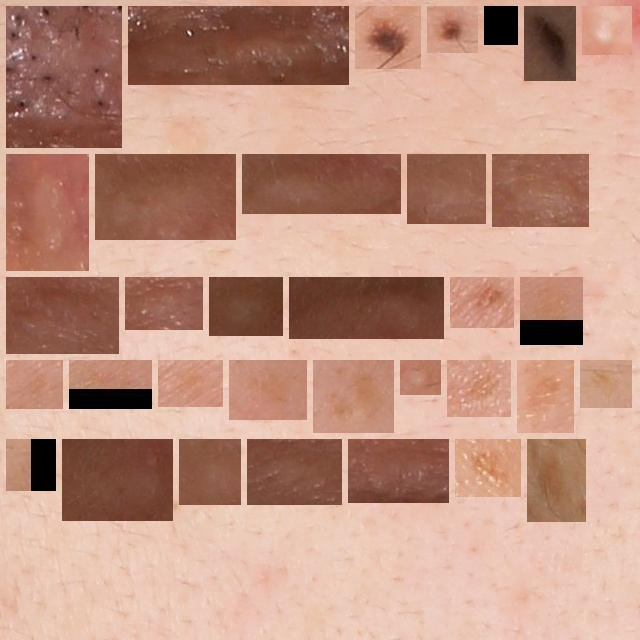hypertrophic_scar: (136, 14, 341, 77), (14, 14, 114, 140), (103, 162, 228, 232), (14, 162, 81, 263), (297, 285, 436, 331), (250, 162, 393, 206), (70, 447, 165, 513), (14, 285, 111, 346), (500, 162, 581, 219), (356, 447, 441, 495), (255, 447, 334, 497), (415, 162, 478, 216), (217, 285, 275, 328), (187, 447, 233, 497), (133, 285, 195, 322), (590, 14, 624, 47), (408, 368, 433, 387)
melasma: (321, 368, 386, 425), (535, 447, 578, 514), (237, 368, 299, 412), (528, 285, 575, 337), (525, 368, 566, 425), (77, 368, 144, 401), (463, 447, 513, 489), (455, 368, 503, 409), (458, 285, 506, 320), (166, 368, 215, 399), (14, 368, 55, 401), (14, 447, 48, 483), (588, 368, 624, 400)
nevus: (363, 14, 413, 61), (532, 14, 568, 73), (435, 14, 470, 45), (492, 14, 510, 37)
